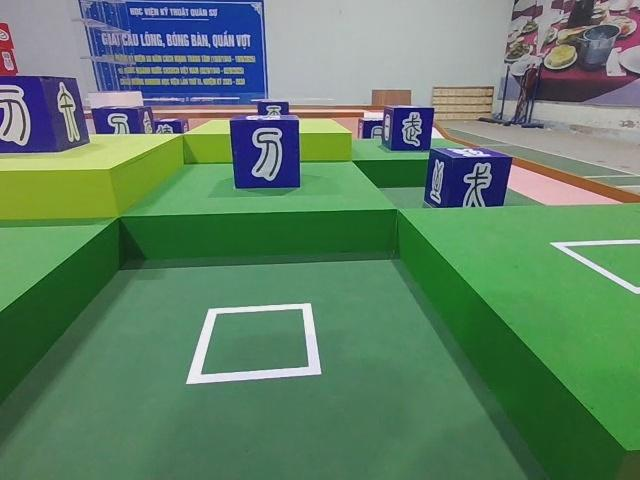R2 Fake Blue: (1, 71, 88, 152), (225, 112, 304, 192), (427, 147, 512, 212), (381, 104, 434, 152), (90, 104, 153, 137)
